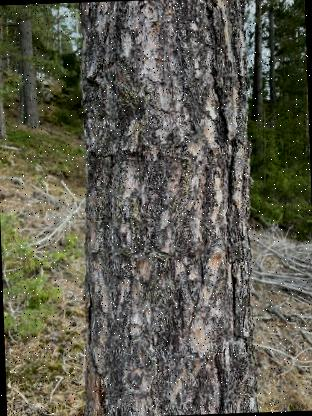tree: (60, 0, 270, 416)
